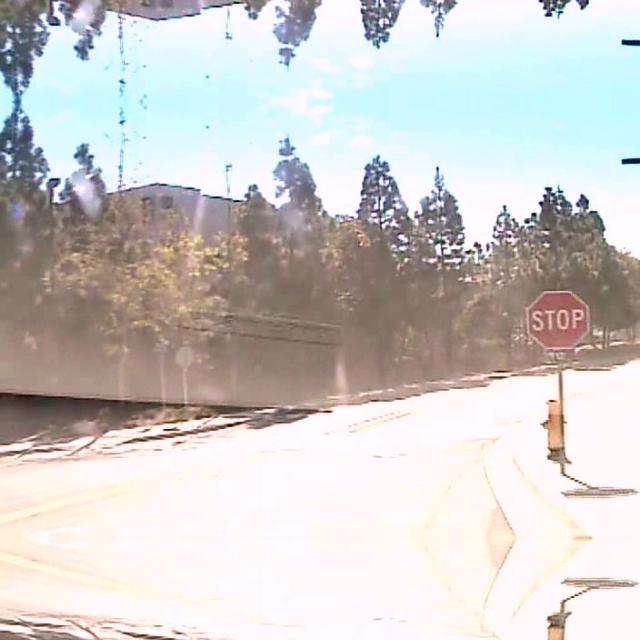stop: (526, 288, 588, 348)
